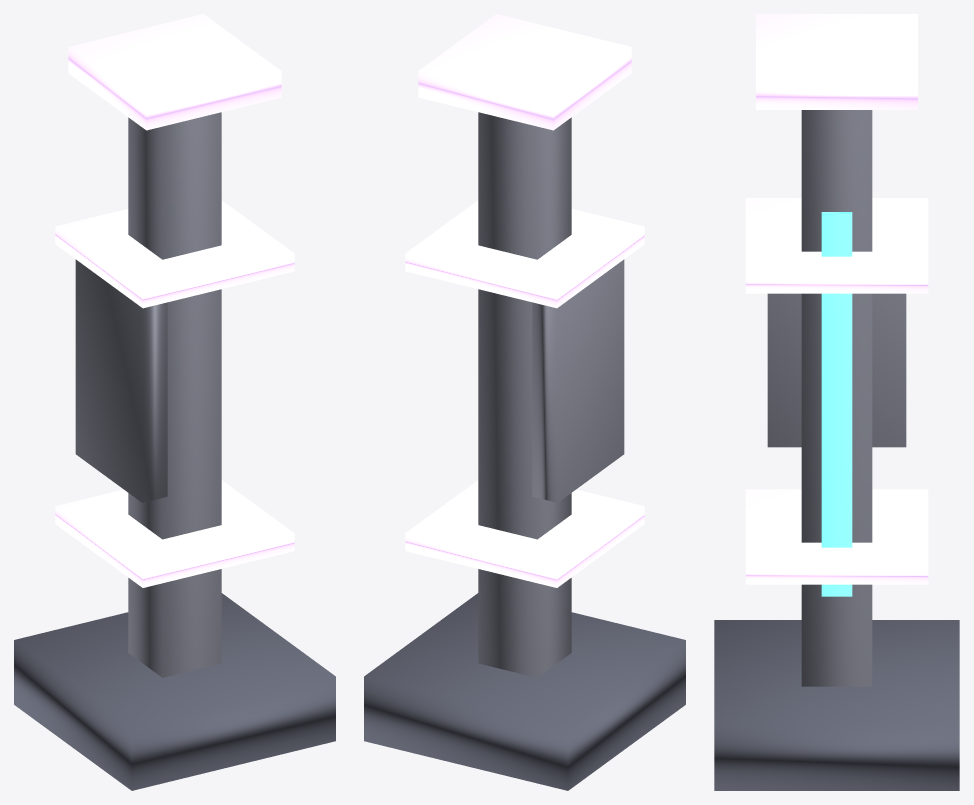
File: parallax-baseline-pylon-lod1.glb
3 views of the same model, side by side, from view 1: azimuth 30°, elevation 25°; view 2: azimuth 150°, elevation 25°; view 3: azimuth 270°, elevation 25° (orthographic). The views are drawn at different scales.
Visible parts, largest first — view 1: parallax-baseline-pylon-base, parallax-baseline-pylon-spine, parallax-baseline-pylon-calibration-fin, parallax-baseline-pylon-cap, parallax-baseline-pylon-ring-b, parallax-baseline-pylon-ring-a; view 2: parallax-baseline-pylon-base, parallax-baseline-pylon-spine, parallax-baseline-pylon-calibration-fin, parallax-baseline-pylon-cap, parallax-baseline-pylon-ring-b, parallax-baseline-pylon-ring-a; view 3: parallax-baseline-pylon-base, parallax-baseline-pylon-spine, parallax-baseline-pylon-cap, parallax-baseline-pylon-ring-a, parallax-baseline-pylon-ring-b, parallax-baseline-pylon-calibration-fin, parallax-baseline-pylon-reference-strip.
Part boxes in pixels (x1,y1,x2,y2): parallax-baseline-pylon-base: (14,593,335,790); parallax-baseline-pylon-spine: (128,112,221,677); parallax-baseline-pylon-calibration-fin: (75,259,167,502); parallax-baseline-pylon-cap: (68,14,281,130); parallax-baseline-pylon-ring-b: (55,200,294,308); parallax-baseline-pylon-ring-a: (55,480,294,587); parallax-baseline-pylon-base: (364,593,685,790); parallax-baseline-pylon-spine: (478,112,571,677); parallax-baseline-pylon-calibration-fin: (532,259,624,502); parallax-baseline-pylon-cap: (418,14,631,130); parallax-baseline-pylon-ring-b: (405,200,644,308); parallax-baseline-pylon-ring-a: (405,480,644,587); parallax-baseline-pylon-base: (714,620,959,790); parallax-baseline-pylon-spine: (801,110,872,686); parallax-baseline-pylon-cap: (756,14,917,109); parallax-baseline-pylon-ring-a: (745,489,928,584); parallax-baseline-pylon-ring-b: (745,198,928,293); parallax-baseline-pylon-calibration-fin: (767,293,906,447); parallax-baseline-pylon-reference-strip: (821,212,852,596).
Bounding box in the file's own units: 1.45 × 4.51 × 1.45.
